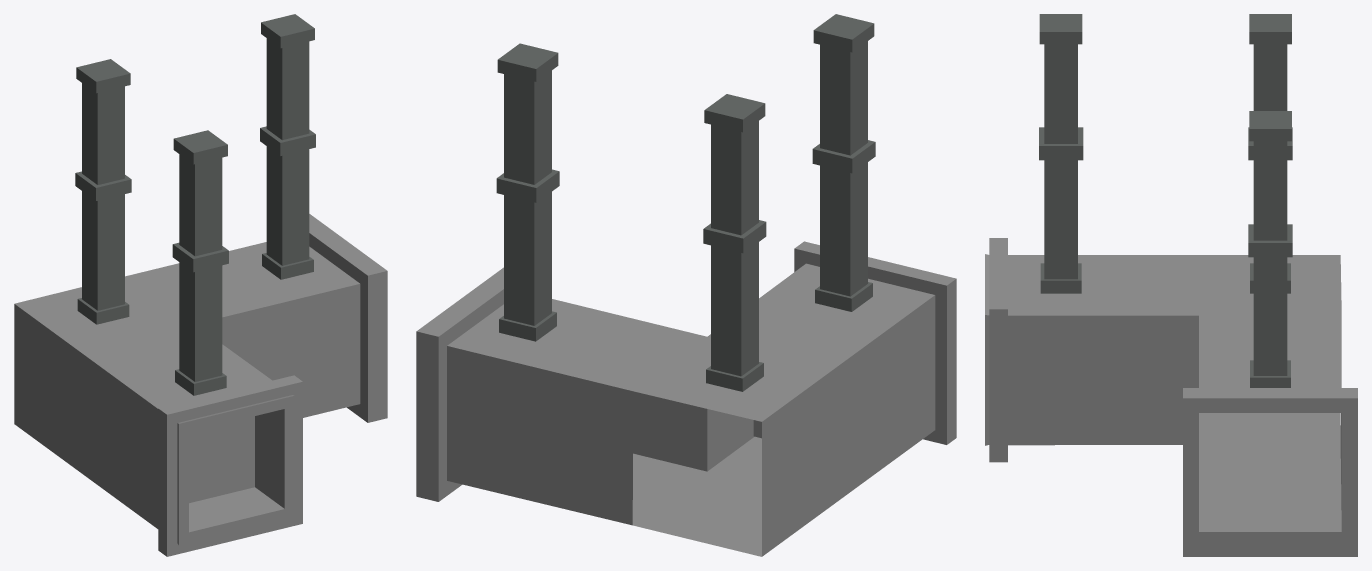
File: BigVent.fbx
3 renders of one model, left to right at view 1: azimuth 30°, elevation 25°; view 2: azimuth 150°, elevation 25°; view 3: azimuth 270°, elevation 25°, orthographic. The views are drawn at different scales.
Visible parts, largest first — view 1: Cube.001; view 2: Cube.001; view 3: Cube.001.
Boxes of the visible parts, x1,y1,x2,y2 form: Cube.001: (14, 14, 387, 556); Cube.001: (416, 14, 956, 556); Cube.001: (985, 14, 1357, 556).
Bounding box in the file's own units: 800 × 929 × 772.
